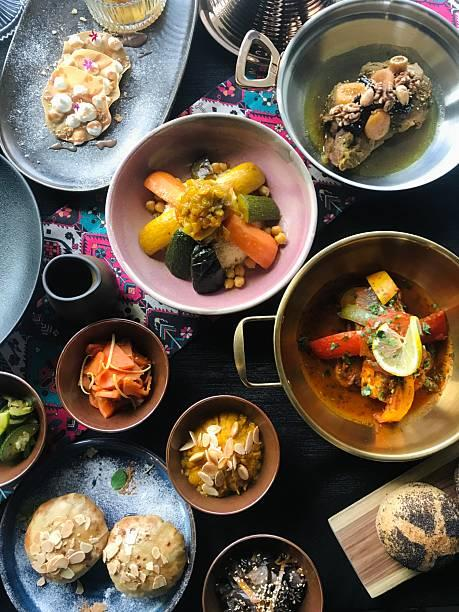Braised Crucian Carp: (249, 231, 459, 459), (105, 115, 313, 313), (1, 0, 201, 198), (275, 2, 456, 193), (0, 436, 196, 612)
